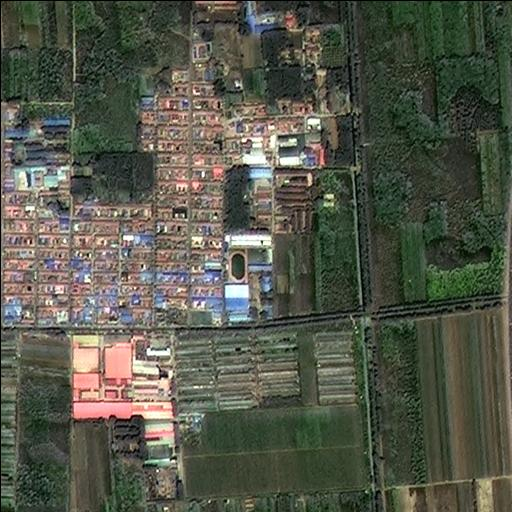school: (222, 229, 273, 326)
